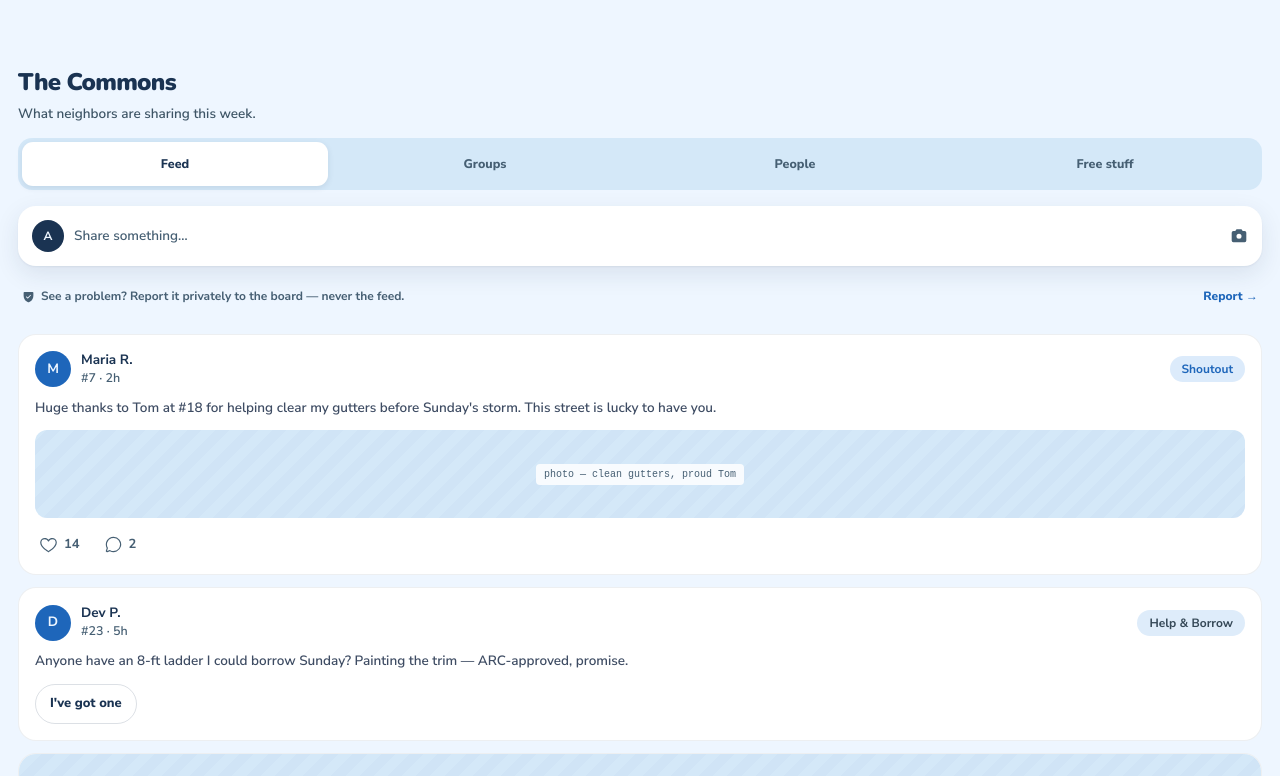
it: comment can be added
Click the button "2": {"x": 120, "y": 544} [100, 522, 140, 566]
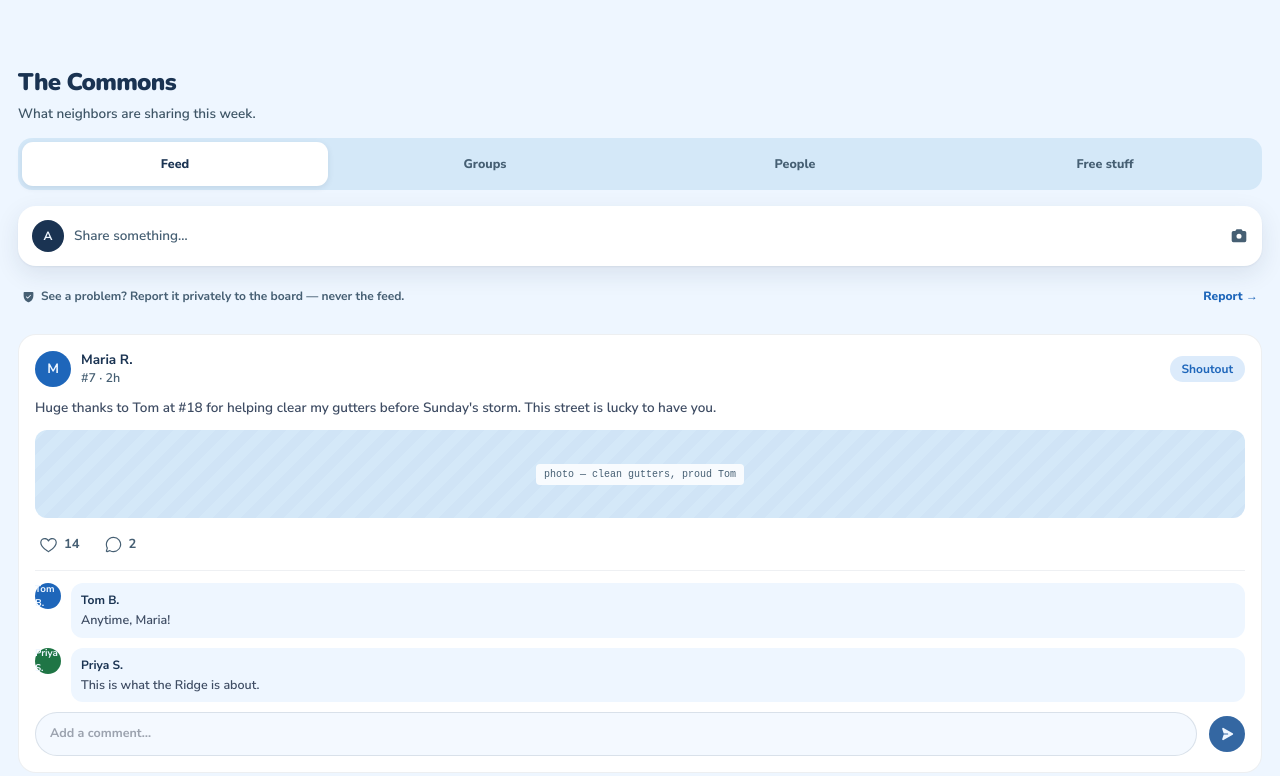
In the field with placeholder "Add a comment…": {"x": 616, "y": 734} [35, 712, 1197, 756], type "Way to go Tom"
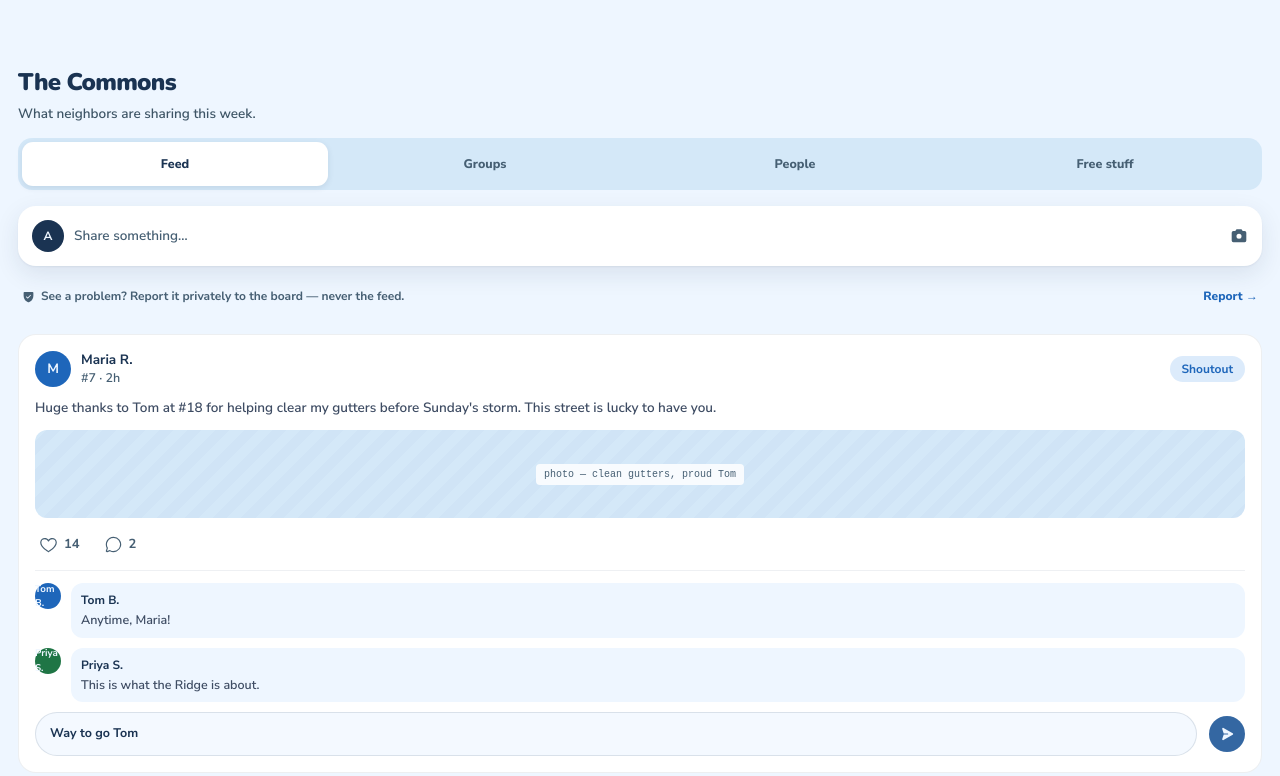
Press Enter in the field with placeholder "Add a comment…", box [35, 712, 1197, 756]
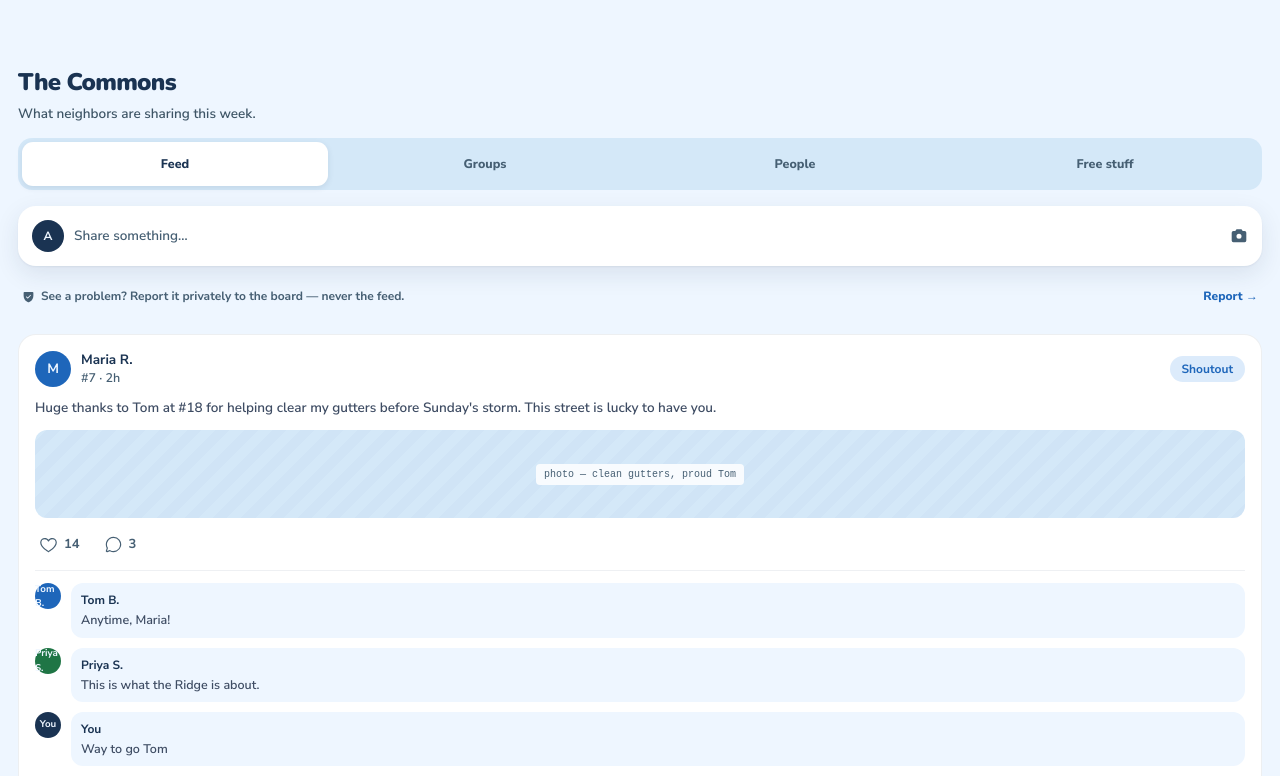
Now the text "Way to go Tom" is shown, box [81, 740, 168, 757]
Now the 1st text "You" is shown, box [35, 712, 61, 738]
